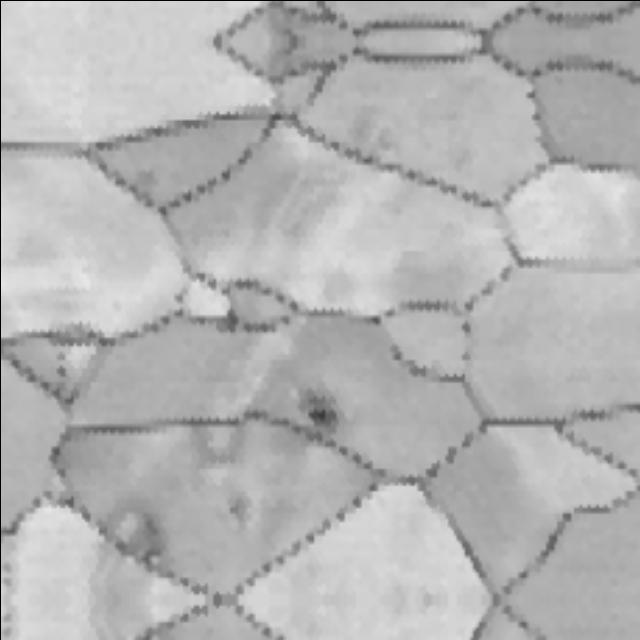good_void: (78, 496, 165, 600), (78, 600, 160, 640), (218, 483, 275, 525), (299, 395, 349, 438), (57, 366, 67, 379), (58, 351, 67, 362)
